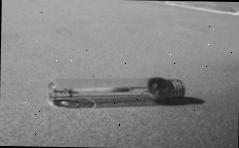lightbulb: (45, 74, 186, 110), (148, 77, 186, 101)
